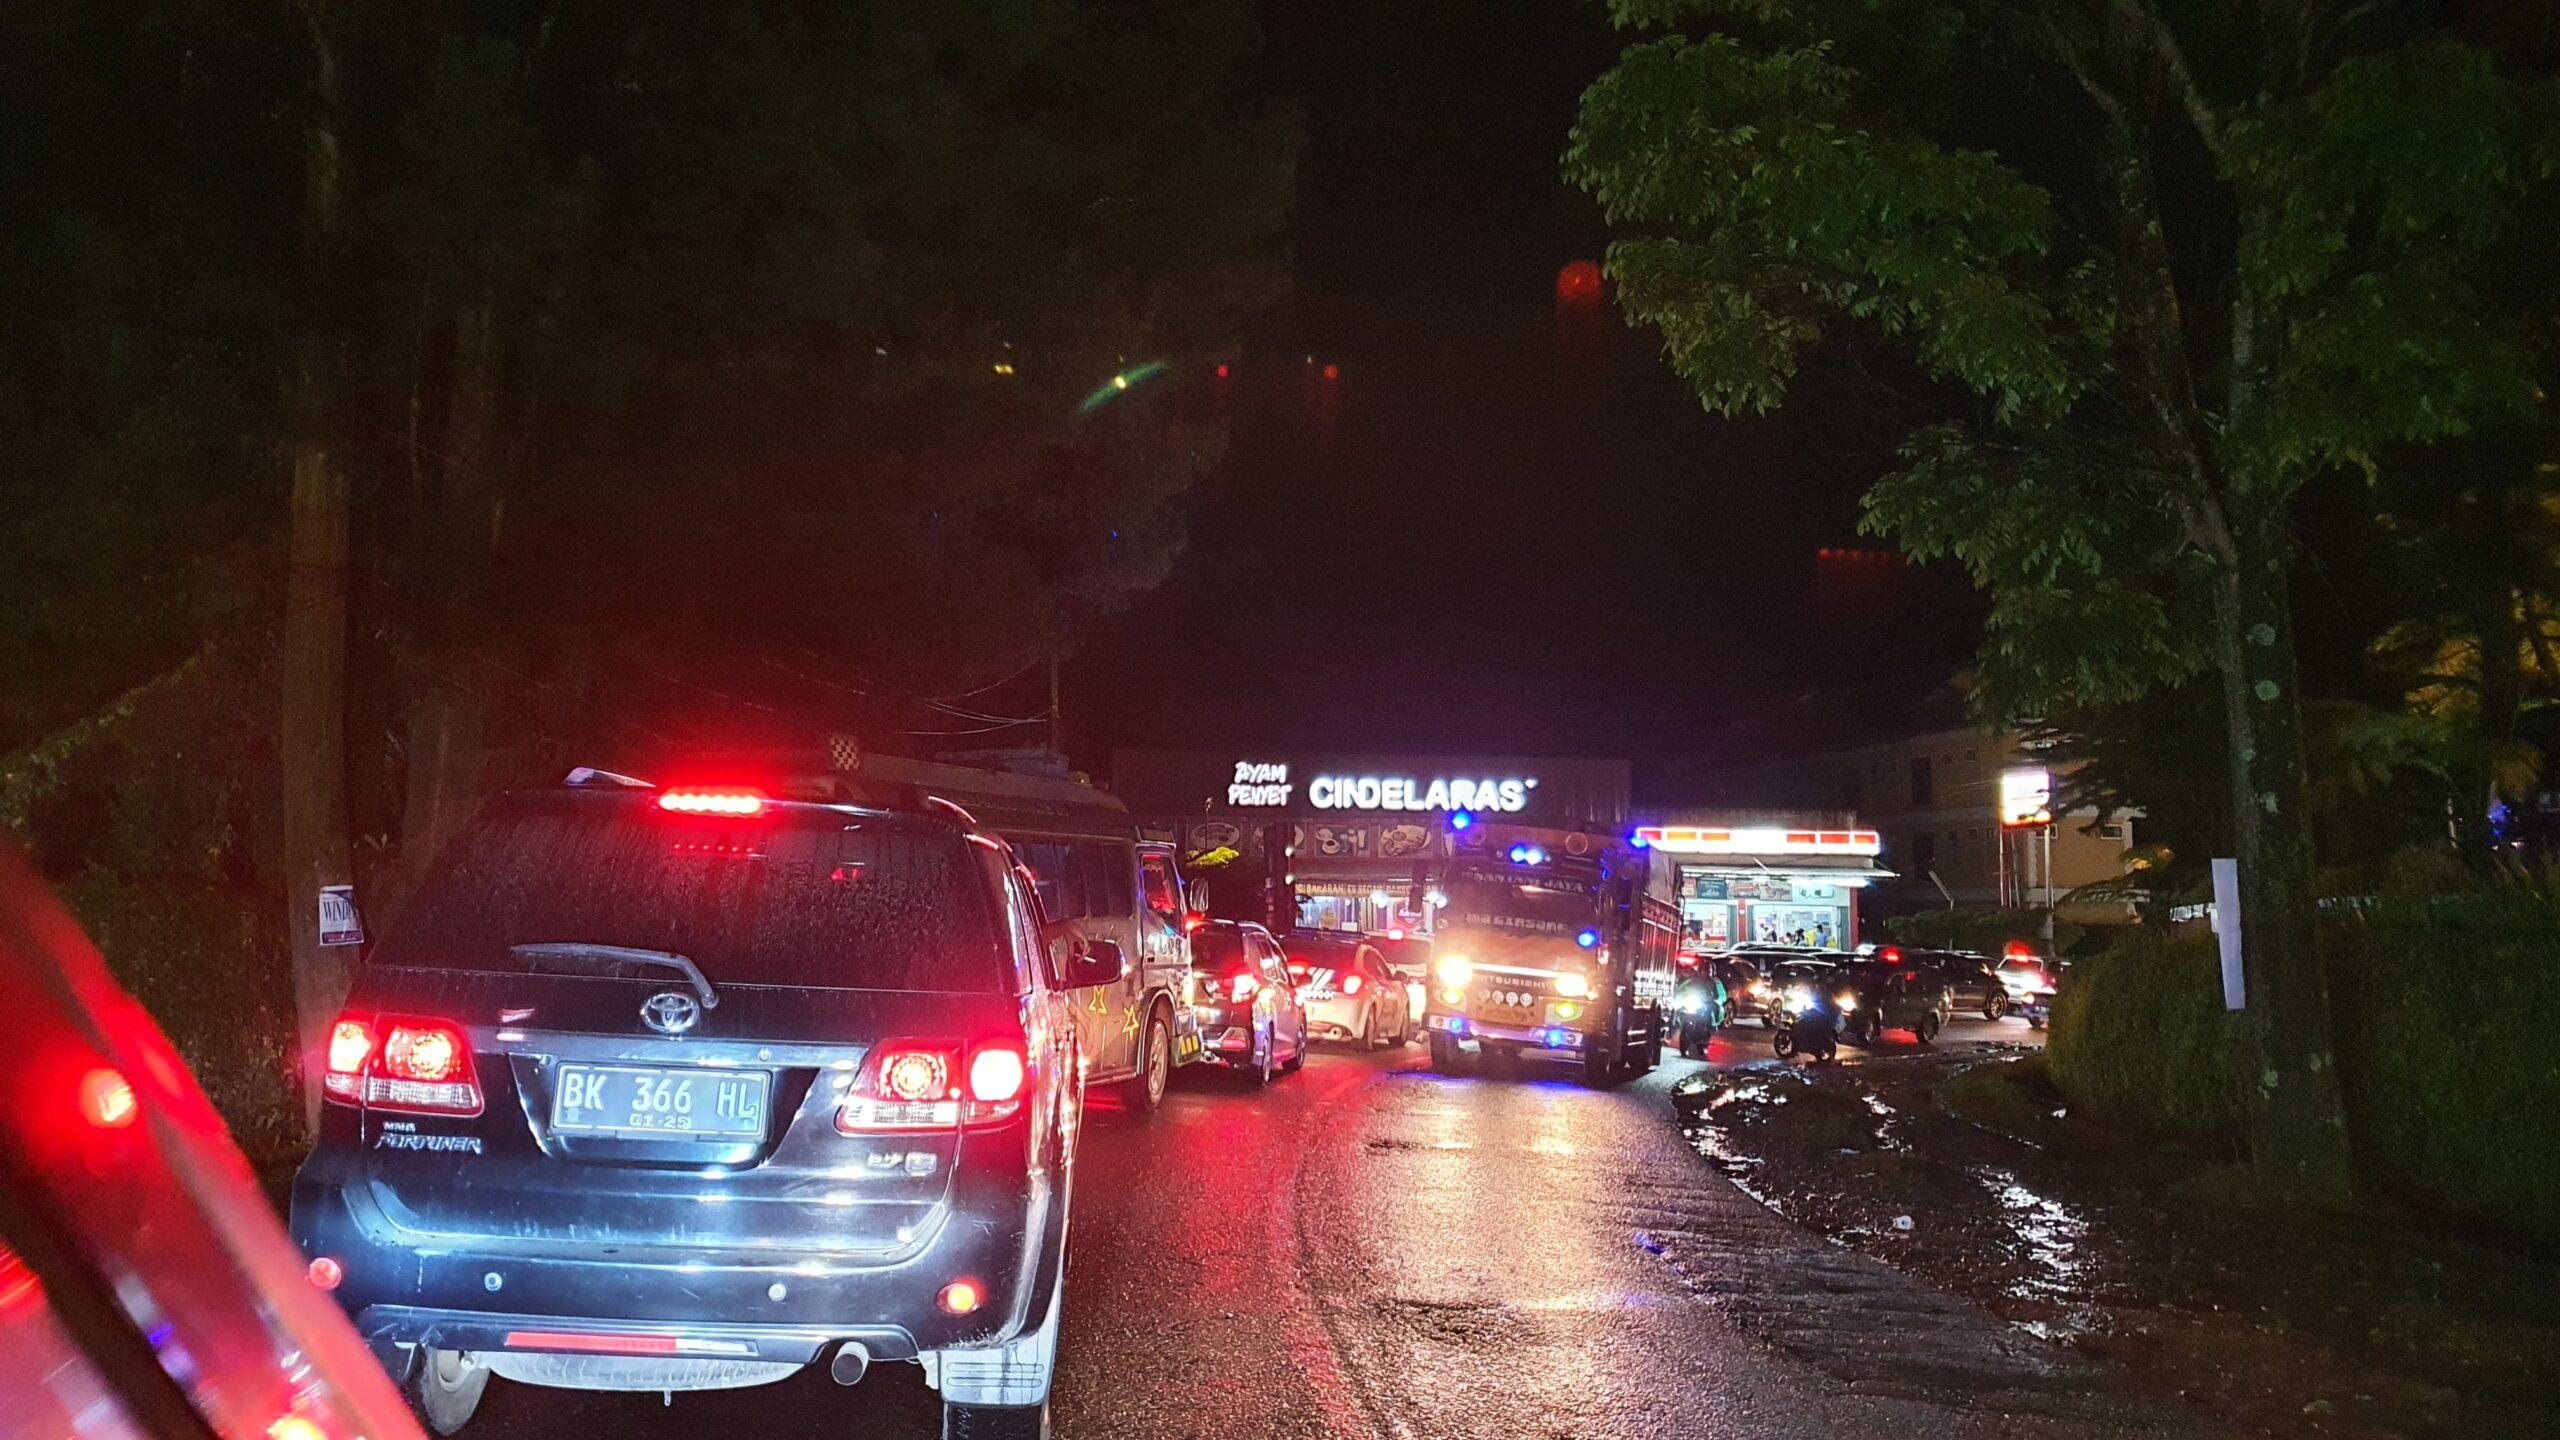Pothole: (1683, 1022, 2057, 1255)
